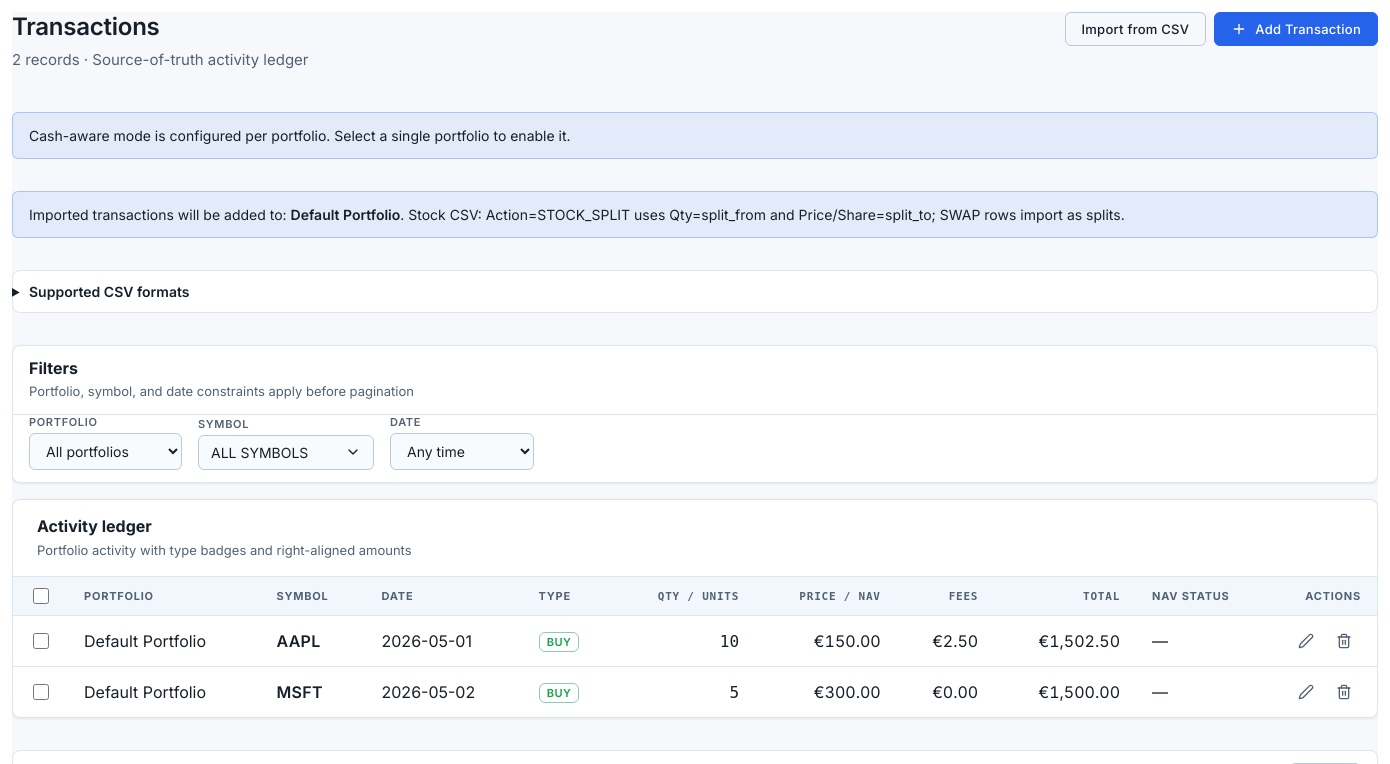
Test: Transactions Page › shows bulk toolbar when rows are selected
Expected: the text "AAPL" is shown, [276,631,321,651]
Step 1. Click the checkbox named "Select transaction 1" → [41, 641], box [33,633,49,649]
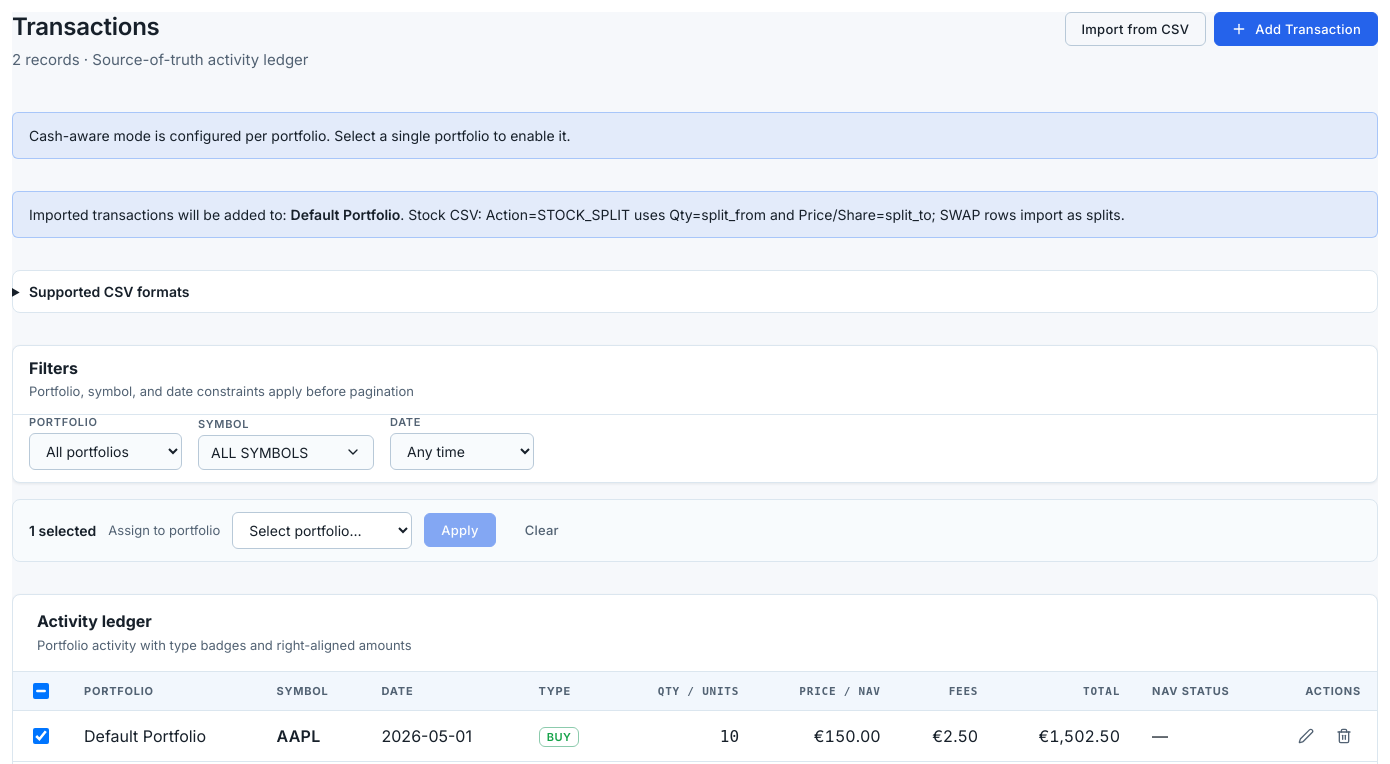
Expected: the element named "Bulk actions" is shown, [12,499,1378,562]
Expected: the text "1 selected" is shown, [29,522,96,539]
